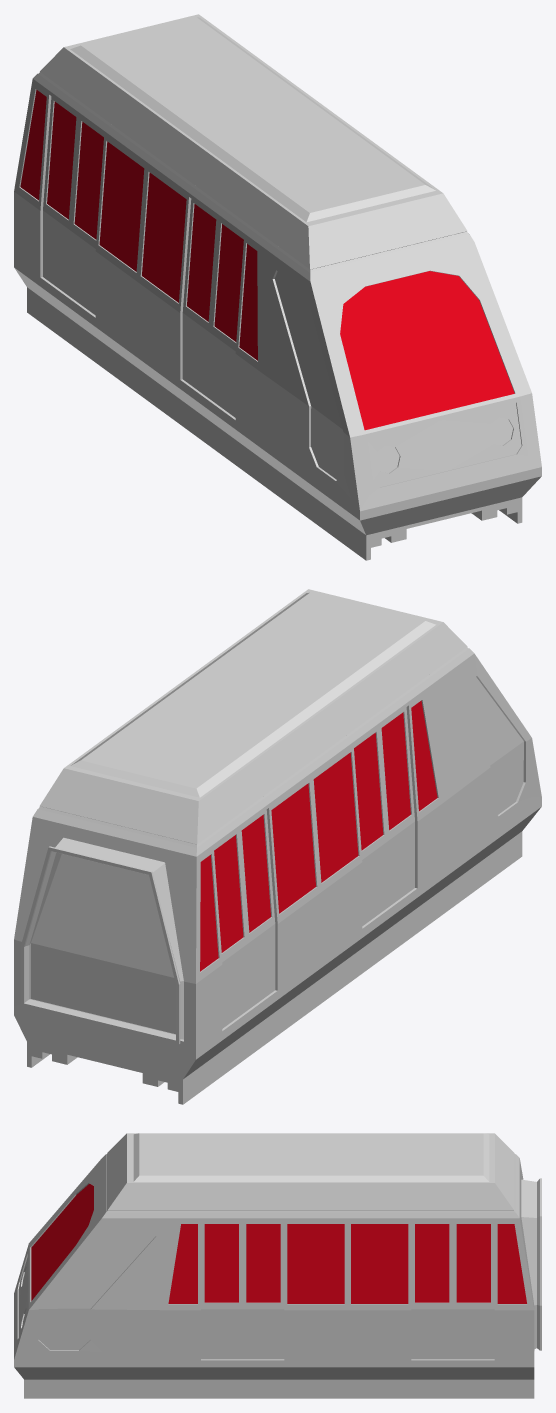
File: SM_monorail_01.glb
3 renders of one model, top to bottom at view 1: azimuth 30°, elevation 25°; view 2: azimuth 150°, elevation 25°; view 3: azimuth 270°, elevation 25°, orthographic. The views are drawn at different scales.
Visible parts, largest first — view 1: monorail_01; view 2: monorail_01; view 3: monorail_01.
Boxes of the visible parts, x1,y1,x2,y2 form: monorail_01: [14, 14, 541, 560]; monorail_01: [14, 589, 541, 1104]; monorail_01: [14, 1133, 541, 1398].
Size of the model in its own units: 1.64 by 2.45 by 5.45.
